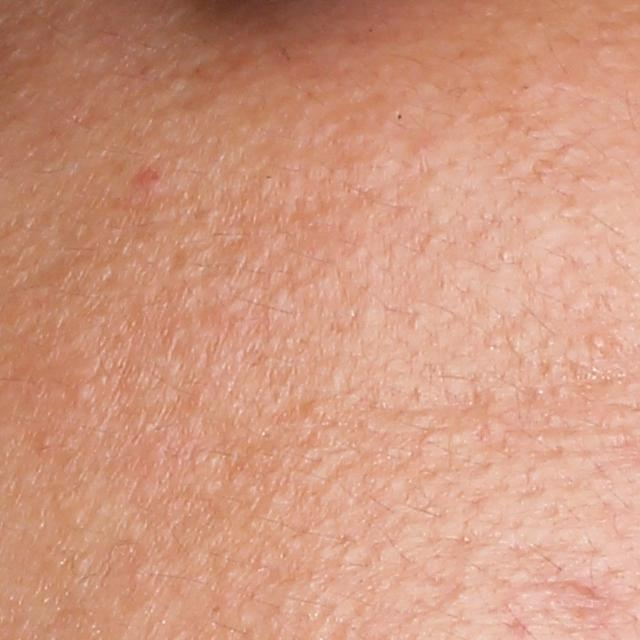comedo: (70, 379, 93, 406), (589, 331, 614, 350), (393, 108, 408, 123)
